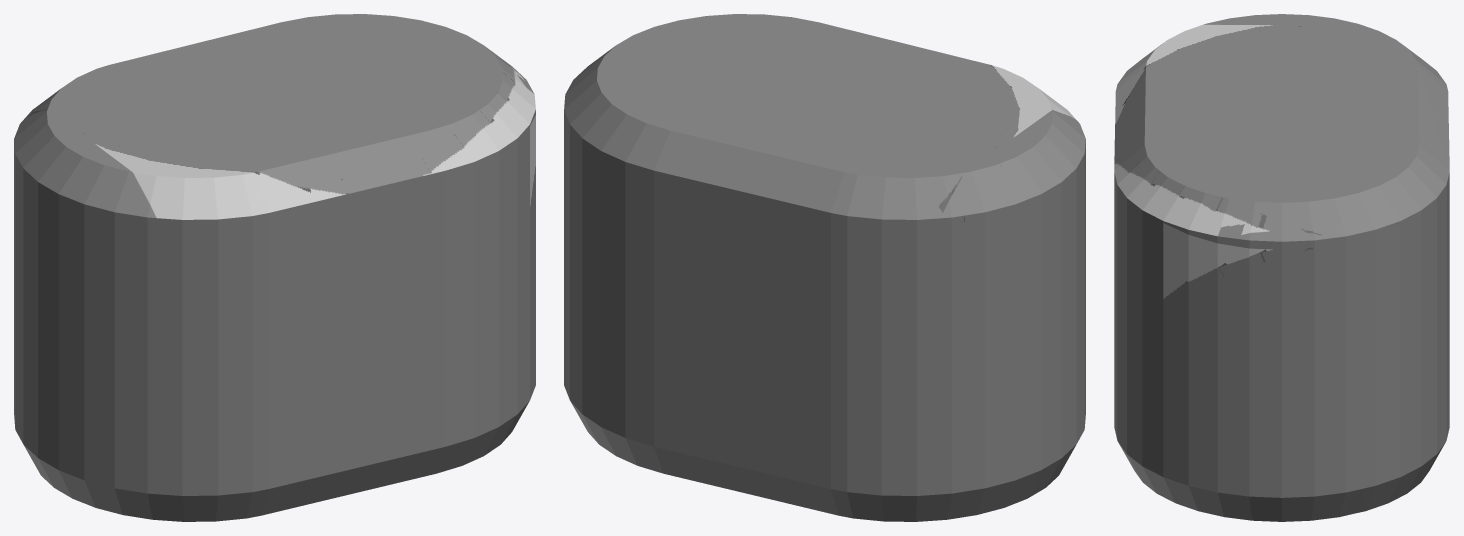
The model's file is silo.dae.
3 views of the same model, side by side, from view 1: azimuth 30°, elevation 25°; view 2: azimuth 150°, elevation 25°; view 3: azimuth 270°, elevation 25° (orthographic). The views are drawn at different scales.
Parts seen in each view (by area): view 1: Cylinder; view 2: Cylinder; view 3: Cylinder.
Part boxes in pixels (left/top/right/bottom): Cylinder: left=14, top=14, right=535, bottom=521; Cylinder: left=564, top=14, right=1085, bottom=521; Cylinder: left=1114, top=14, right=1449, bottom=521.
Bounding box in the file's own units: 2.94 × 1.94 × 2.
